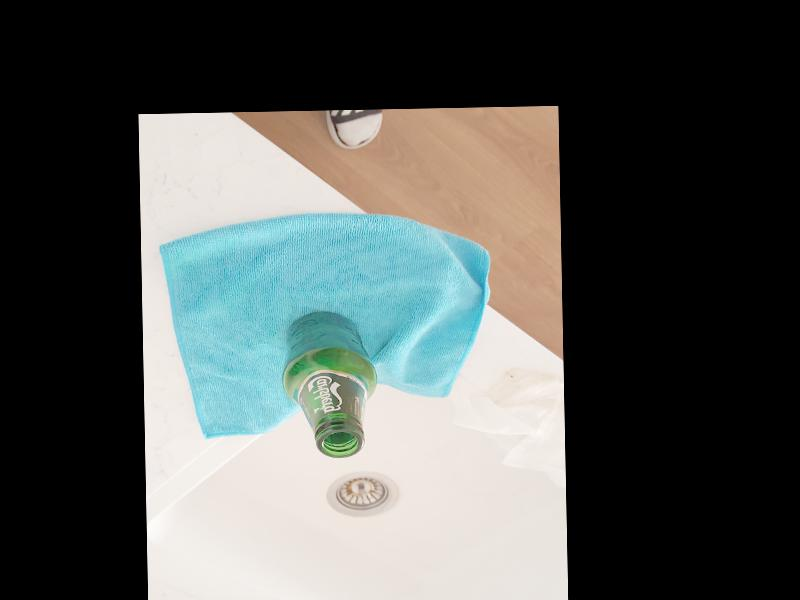Beer: (285, 308, 379, 457)
